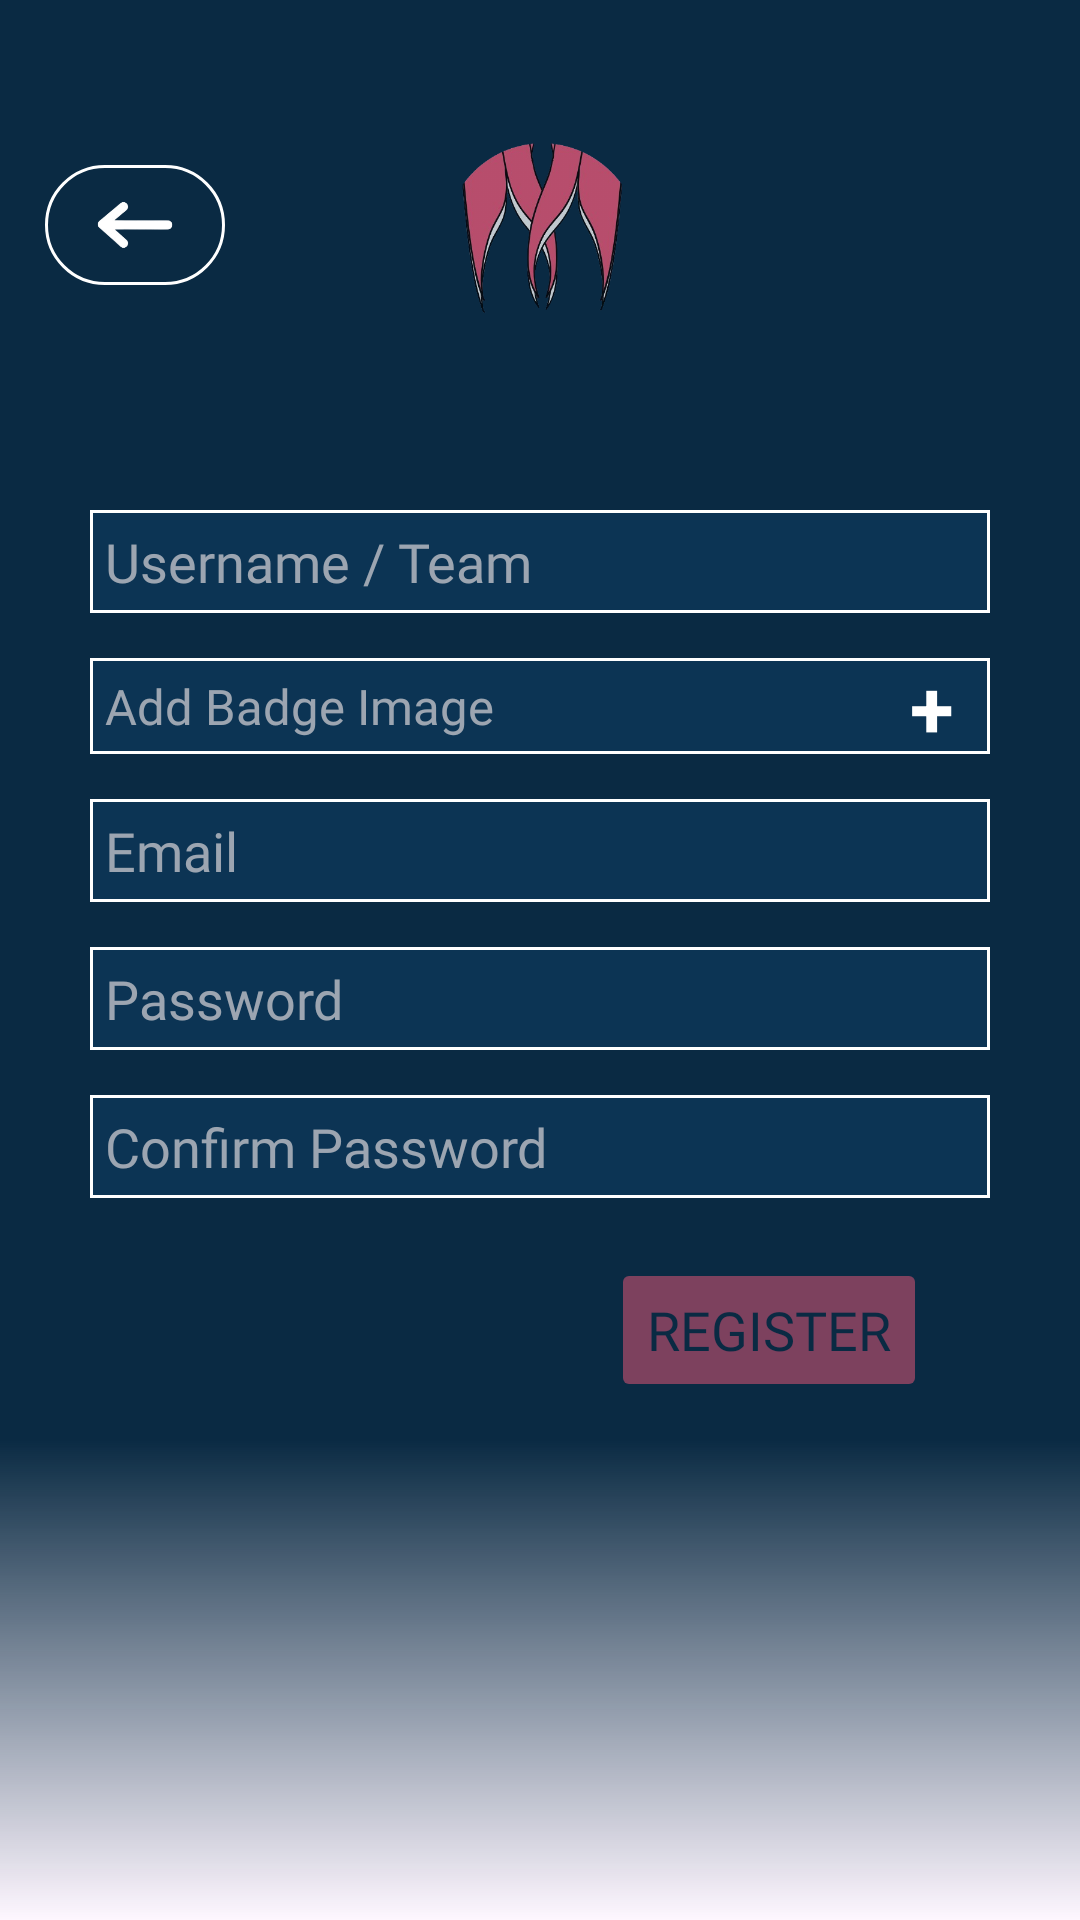

Point at icon controls on the screen. Image size 1080w x 1920h, points as (x=x, y=y).
arrow: (x=135, y=225)
